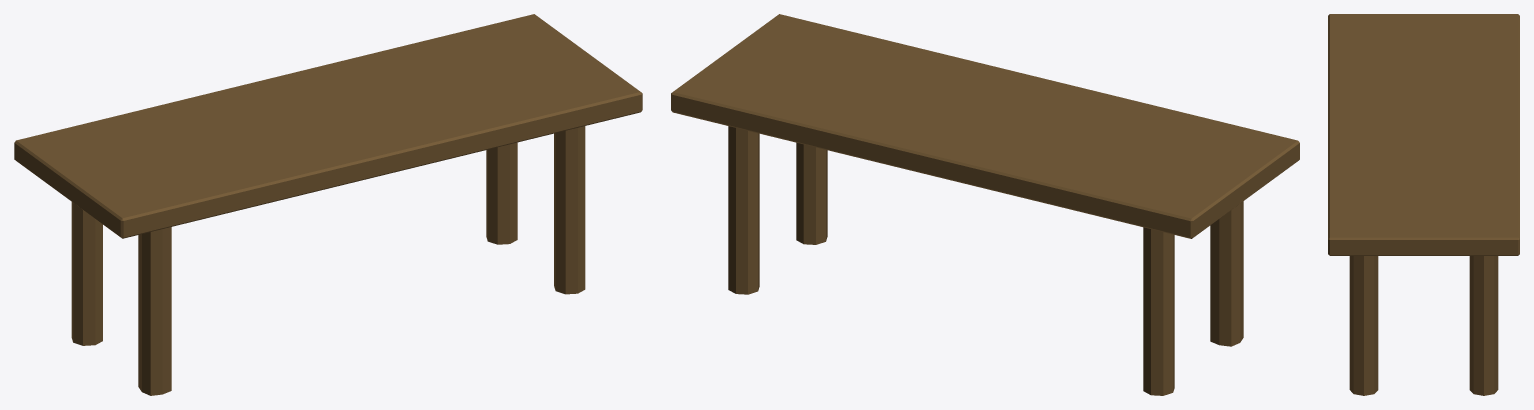
File: table.glb
The picture shows the model from 3 angles, left to right: view 1: azimuth 30°, elevation 25°; view 2: azimuth 150°, elevation 25°; view 3: azimuth 270°, elevation 25°; orthographic projection. The views are drawn at different scales.
Parts seen in each view (by area): view 1: Cube; view 2: Cube; view 3: Cube.
Boxes of the visible parts, box(x1,y1,x2,y2) form: Cube: box(14, 14, 642, 395); Cube: box(671, 14, 1299, 395); Cube: box(1328, 14, 1519, 395).
Size of the model in its own units: 2.78 by 1 by 1.
